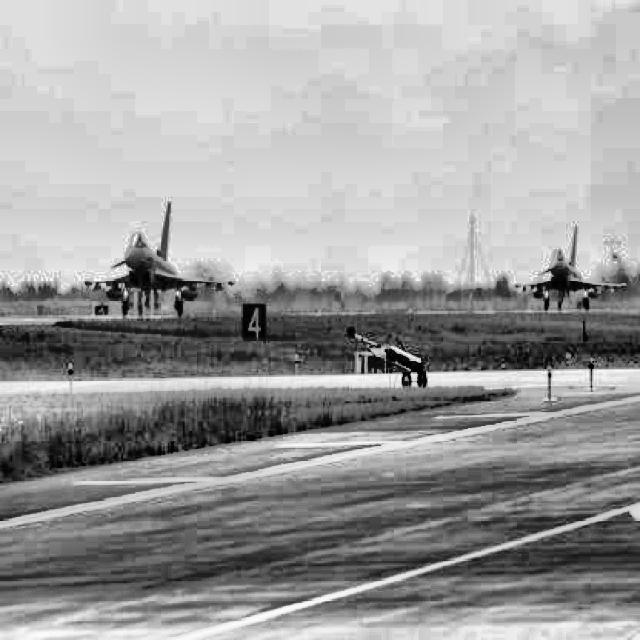EF2000: (83, 201, 235, 316), (515, 225, 627, 310)
